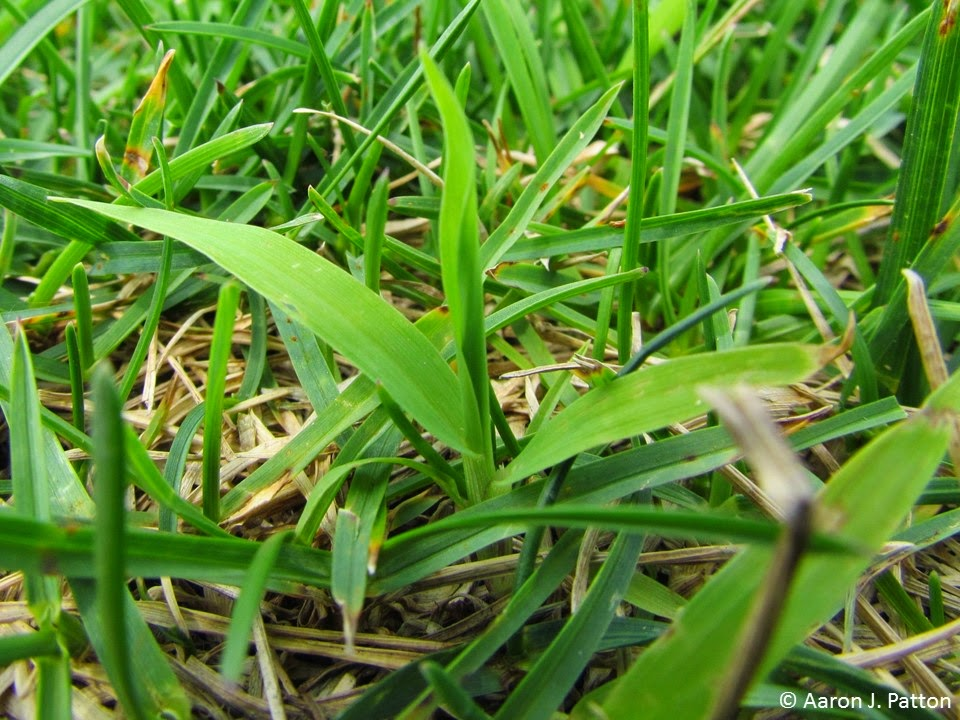crabgrass: (173, 213, 810, 601)
